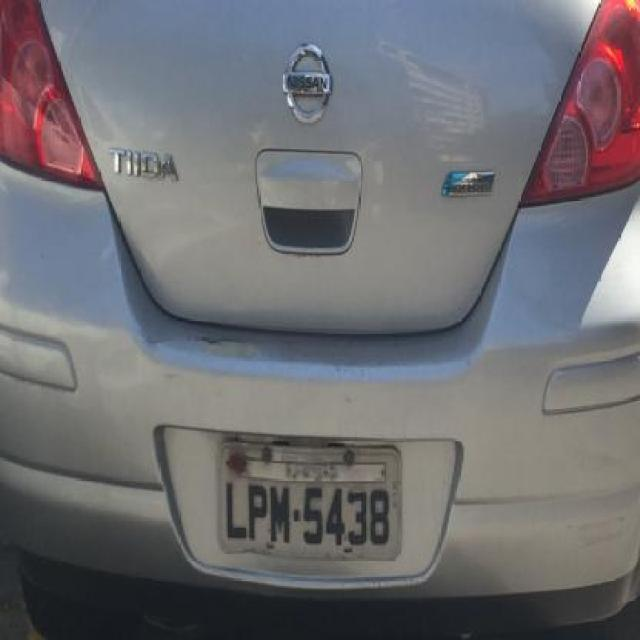old_plate: (209, 437, 411, 566)
